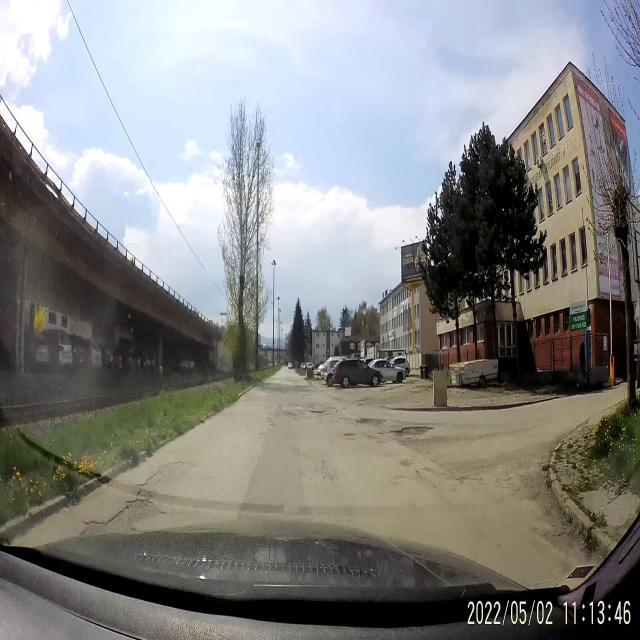Pothole: (102, 480, 167, 530), (390, 418, 435, 444), (354, 412, 388, 430), (310, 406, 328, 420), (343, 428, 355, 442)
